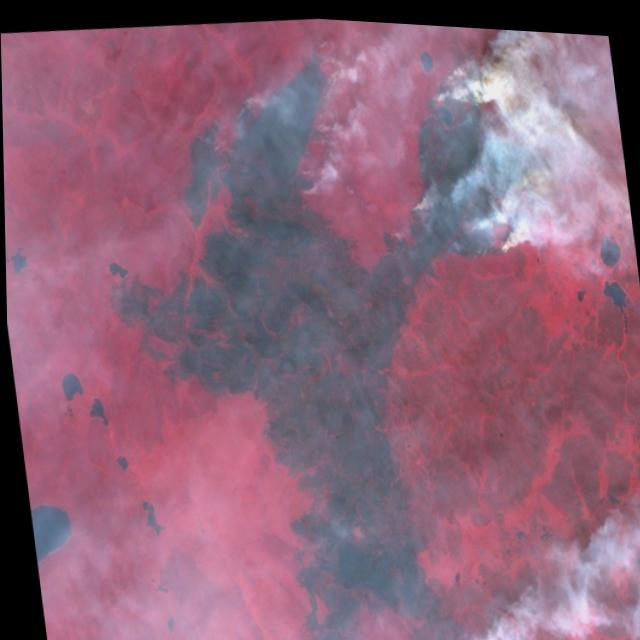fire: (374, 39, 548, 262), (224, 24, 359, 223)
